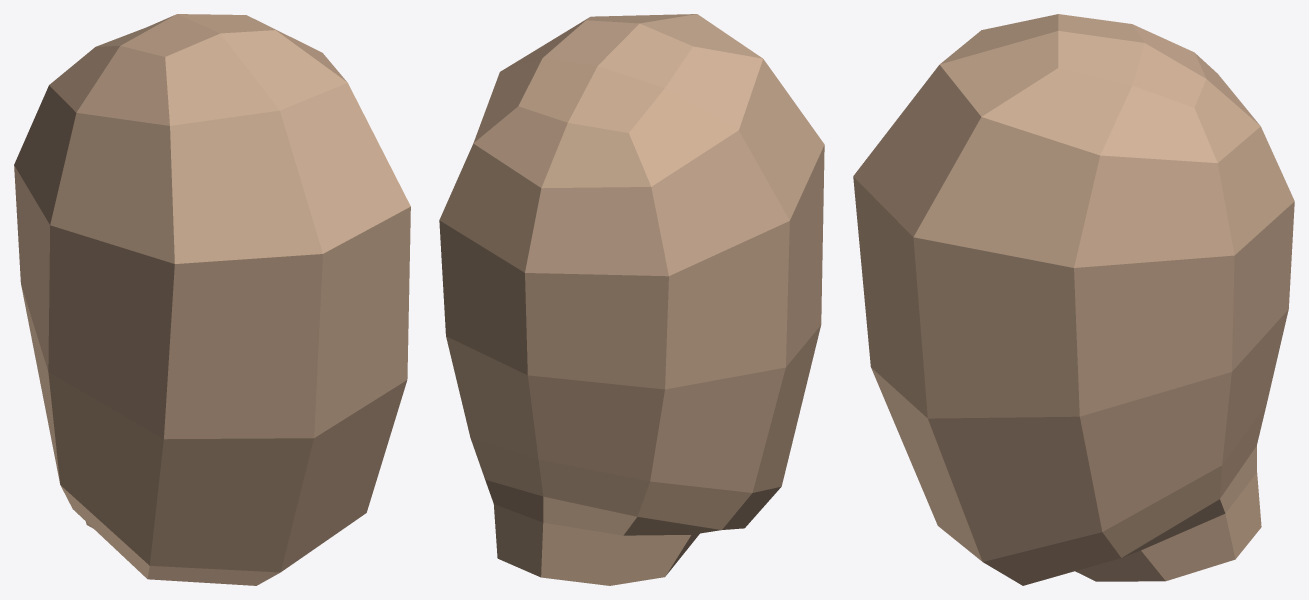
Rendered from Head.fbx.
3 views of the same model, side by side, from view 1: azimuth 30°, elevation 25°; view 2: azimuth 150°, elevation 25°; view 3: azimuth 270°, elevation 25° (orthographic). The views are drawn at different scales.
Visible parts, largest first — view 1: Vert.003; view 2: Vert.003; view 3: Vert.003.
Boxes of the visible parts, <box> form: Vert.003: <box>14,14,410,585</box>; Vert.003: <box>439,14,824,585</box>; Vert.003: <box>853,14,1294,585</box>.
Bounding box in the file's own units: 52.78 × 81.72 × 62.11.
